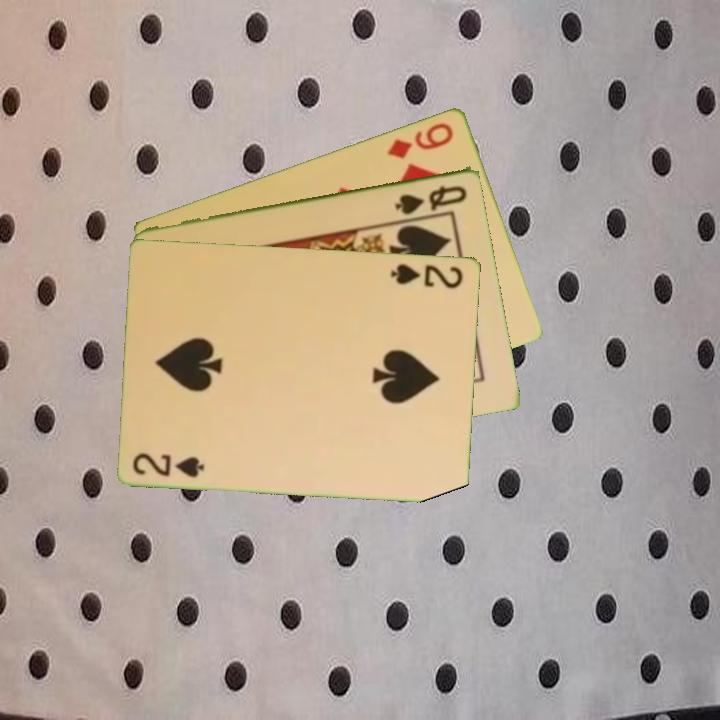2s: (388, 260, 466, 291), (130, 449, 208, 480)
9d: (383, 118, 457, 161)
Qs: (392, 181, 470, 216)
